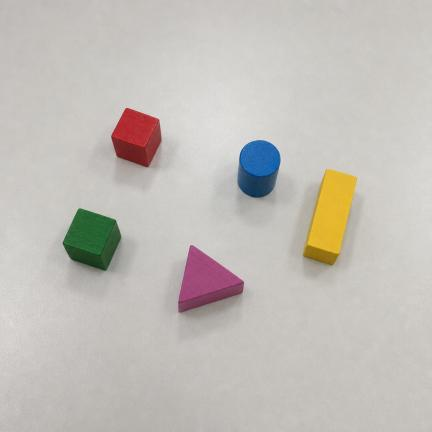BuildingBlocks: (304, 170, 356, 264), (179, 246, 243, 312), (63, 209, 121, 269), (112, 109, 161, 166), (238, 141, 280, 197)
